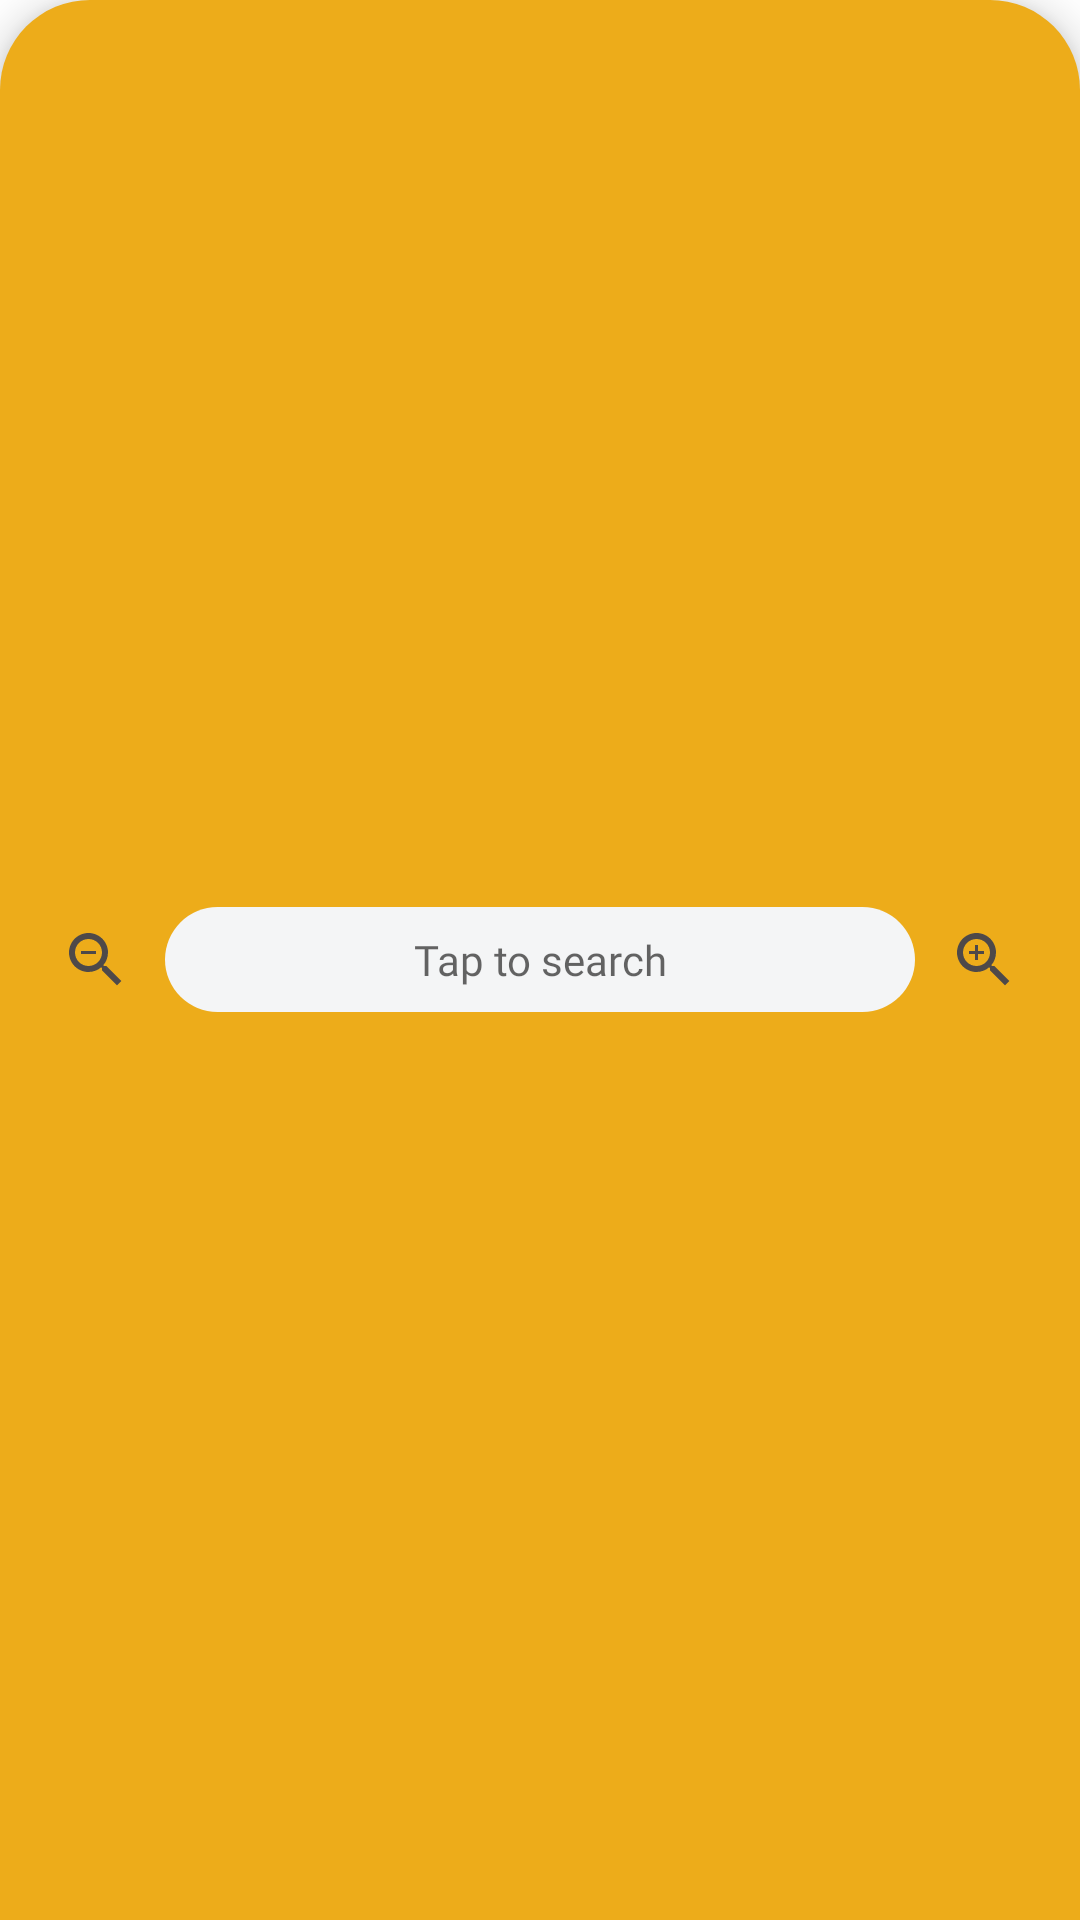

Screen size 1080px×1920px. Icon name, then its center in pixels as (x,y):
zoom in: (983,959)
zoom out: (95,959)
